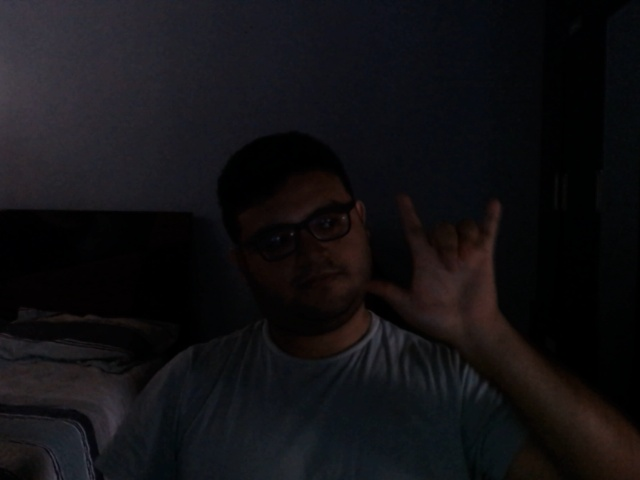I love you: (359, 189, 518, 344)
